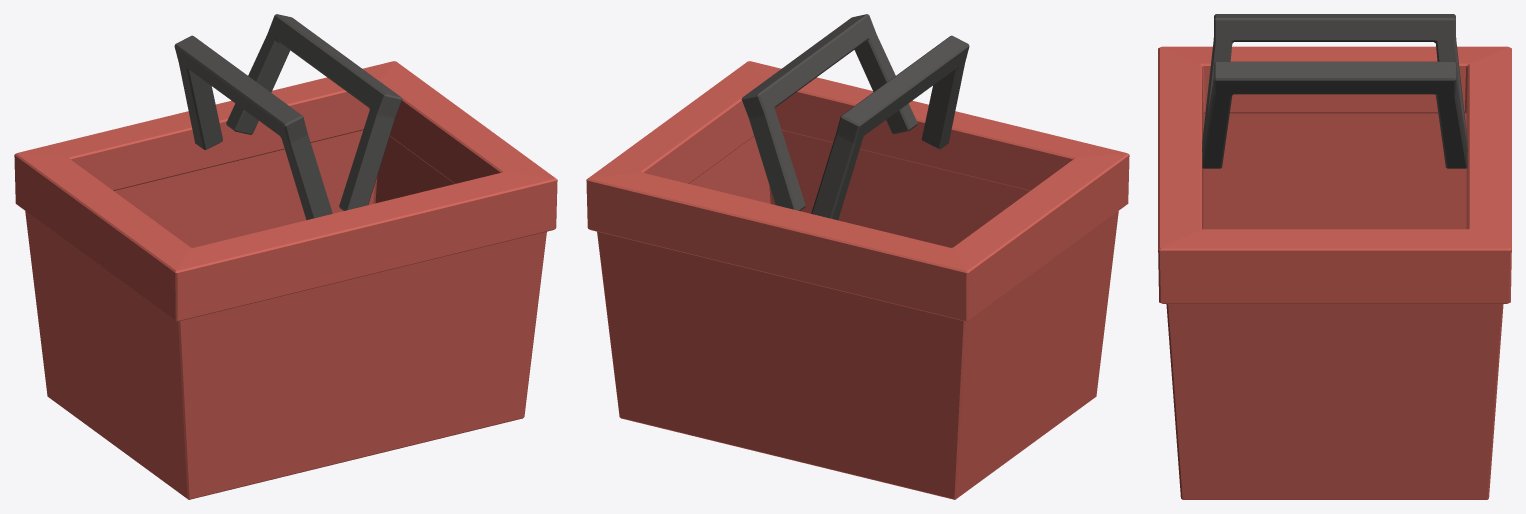
Rendered from Basket_Open_Red.fbx.
3 views of the same model, side by side, from view 1: azimuth 30°, elevation 25°; view 2: azimuth 150°, elevation 25°; view 3: azimuth 270°, elevation 25° (orthographic). The views are drawn at different scales.
Visible parts, largest first — view 1: Basket; view 2: Basket; view 3: Basket.
Boxes of the visible parts, left/top/right/bottom form: Basket: left=14, top=14, right=557, bottom=499; Basket: left=586, top=14, right=1129, bottom=499; Basket: left=1158, top=14, right=1511, bottom=499.
Bounding box in the file's own units: 0.9336 × 0.8005 × 0.6874.
Materials: 1 (1 with a texture image).
